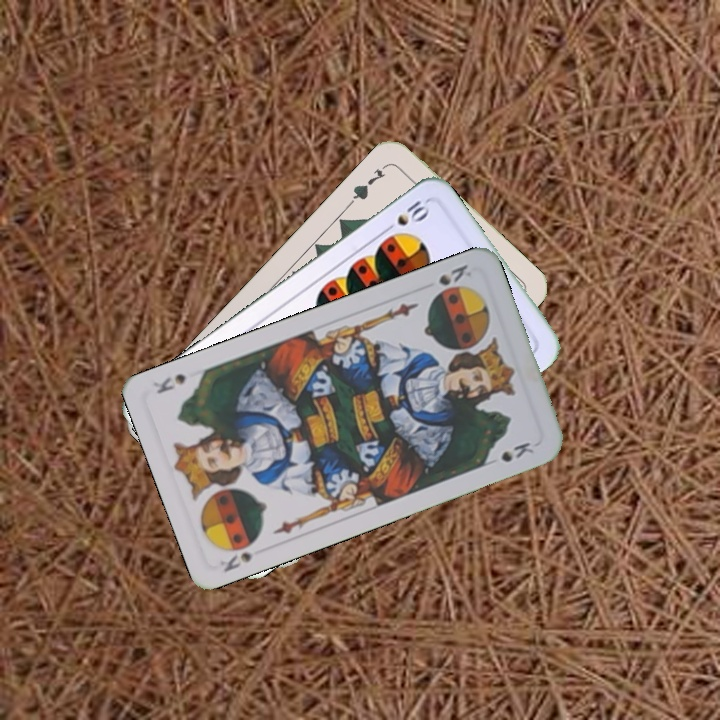G7: (345, 160, 391, 208)
S10: (379, 196, 432, 236)
SK: (434, 260, 475, 288), (216, 548, 255, 575)
